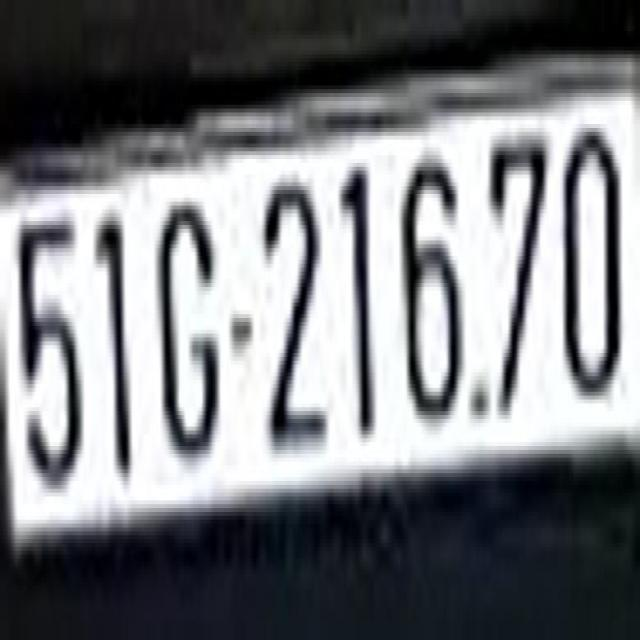0: (562, 124, 624, 400)
1: (339, 140, 378, 434), (98, 218, 137, 470)
2: (261, 163, 329, 450)
5: (15, 205, 84, 492)
6: (400, 132, 464, 427)
7: (491, 128, 546, 431)
G: (152, 167, 227, 469)
